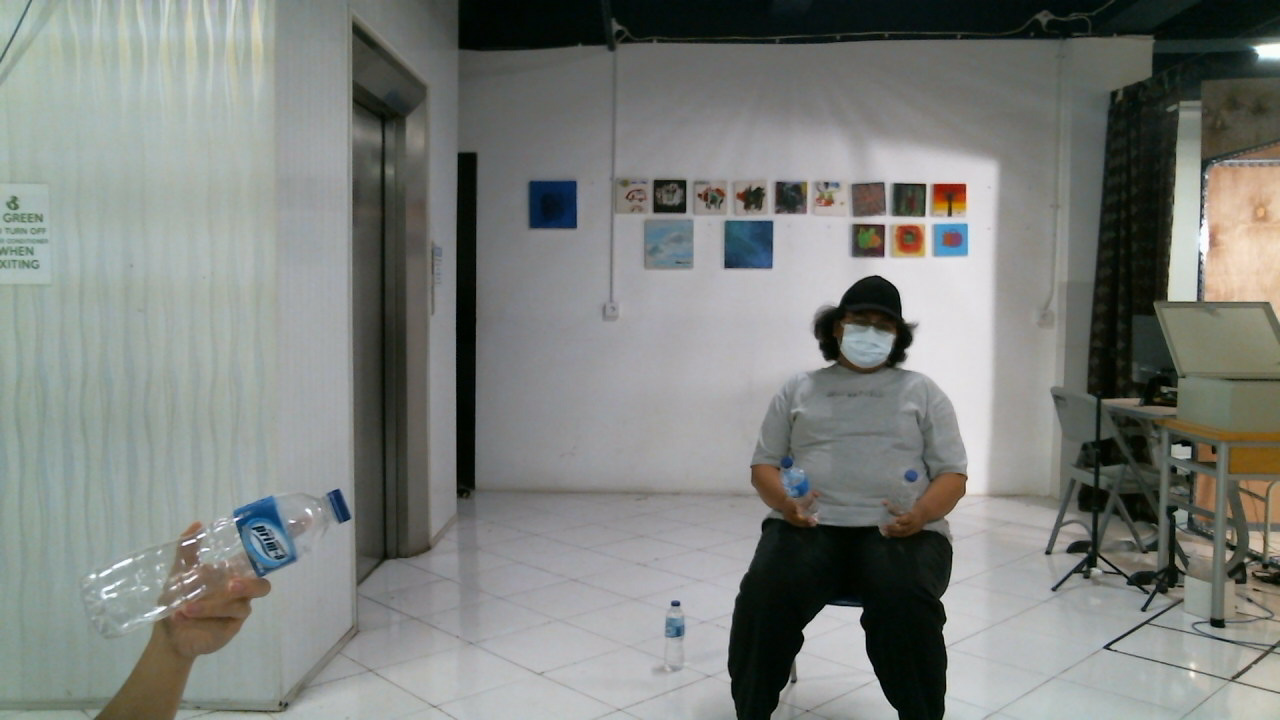Bottle: (71, 490, 348, 641)
